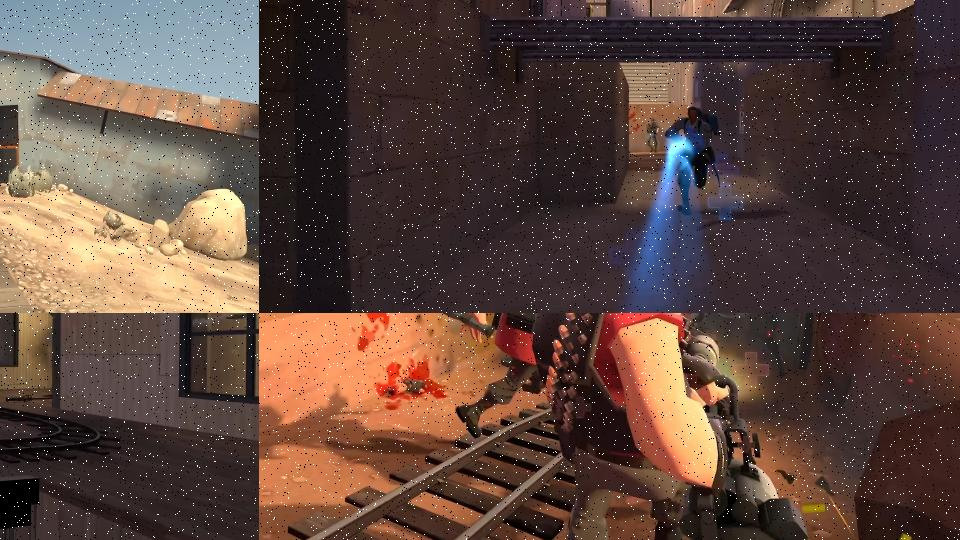Enemy: (500, 313, 816, 540), (451, 313, 600, 436), (664, 106, 722, 217), (725, 313, 794, 380), (646, 118, 661, 153)
